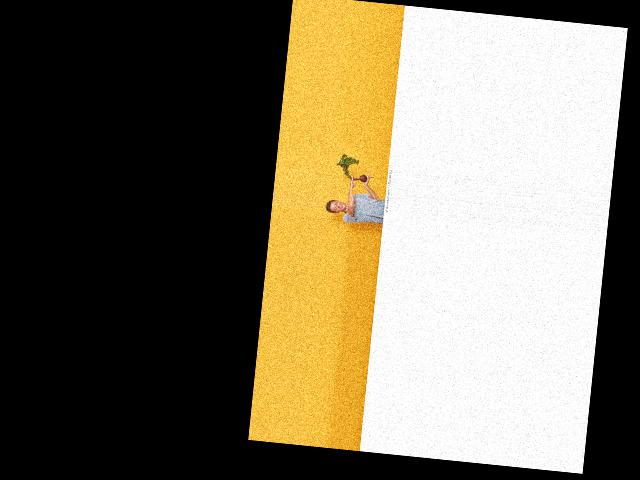beet: (335, 153, 376, 182)
